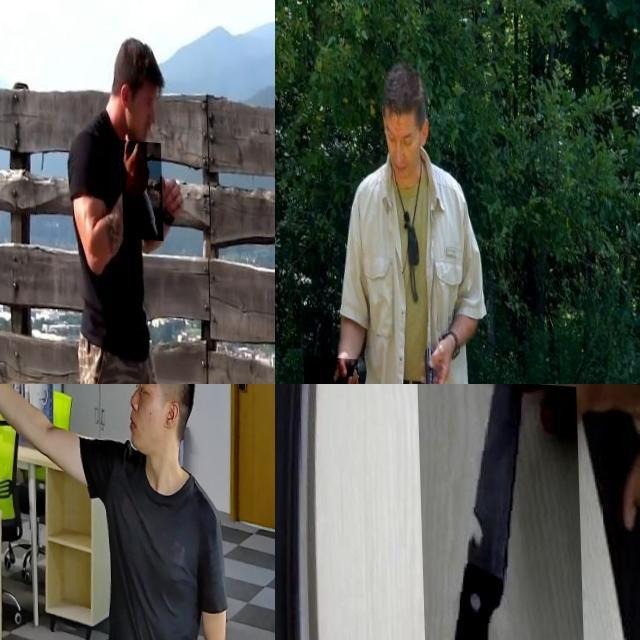-: (417, 384, 588, 640), (120, 136, 162, 238), (300, 352, 356, 384)
gun-knife-thesis - v11 Yolov5 augmented: (0, 384, 22, 444)
